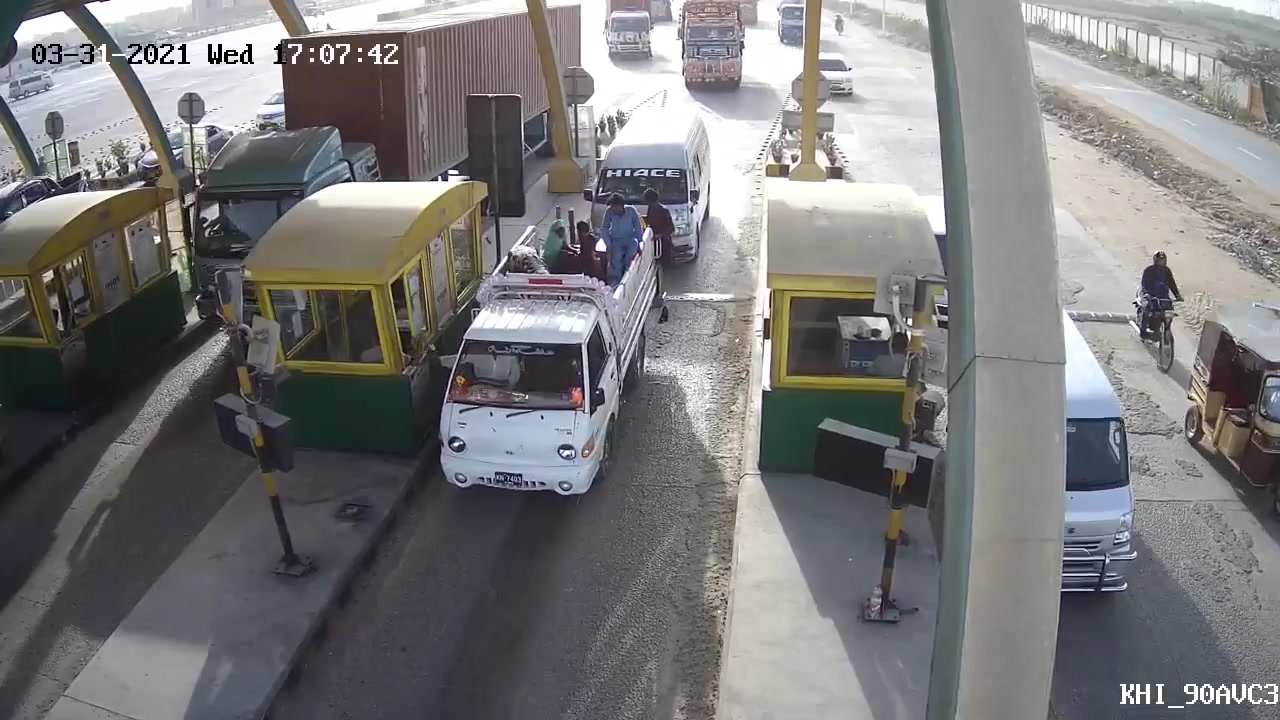F3: (417, 239, 670, 513)
